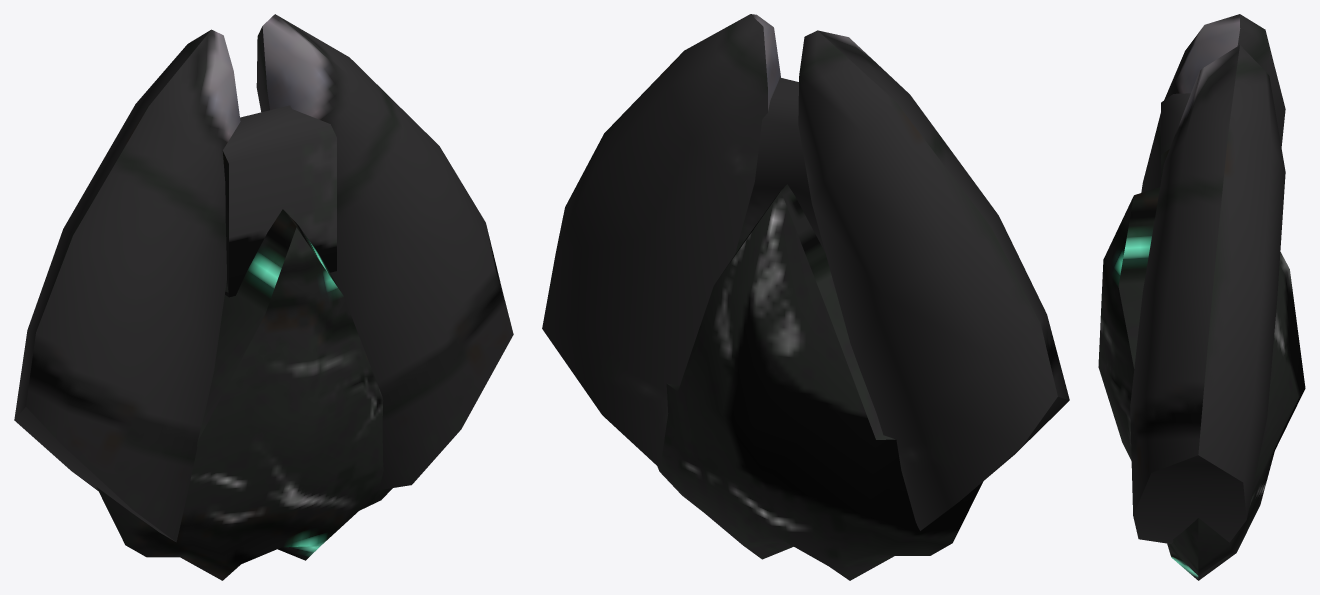
The model's file is Gnat.fbx.
3 renders of one model, left to right at view 1: azimuth 30°, elevation 25°; view 2: azimuth 150°, elevation 25°; view 3: azimuth 270°, elevation 25°, orthographic. The views are drawn at different scales.
Visible parts, largest first — view 1: ship20a.006; view 2: ship20a.006; view 3: ship20a.006.
Part boxes in pixels (box(x1,y1,x2,y2)): ship20a.006: box(14, 14, 513, 580); ship20a.006: box(542, 14, 1069, 580); ship20a.006: box(1098, 14, 1305, 580).
Size of the model in its own units: 3240 by 3469 by 1225.
Materials: 1 (1 with a texture image).
